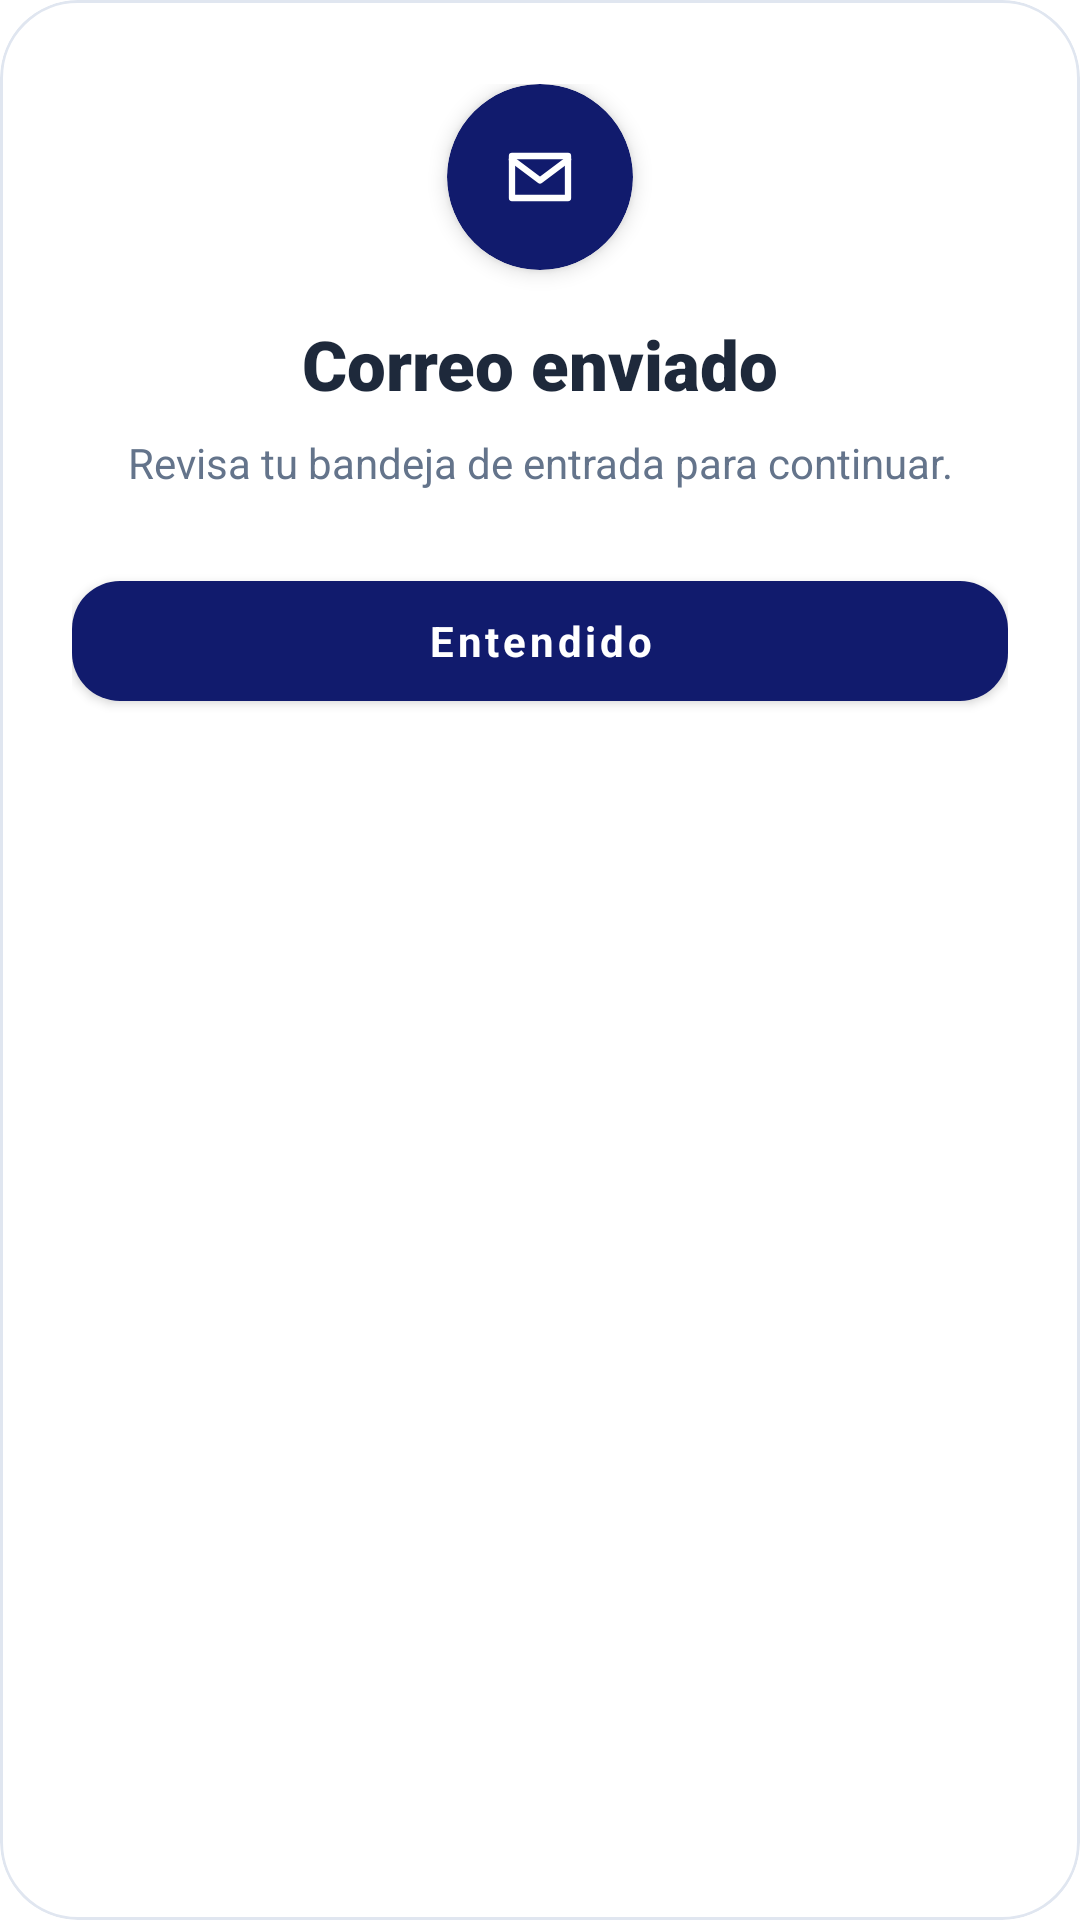

Screen size 1080 × 1920. Icon name, then its center in pixels as point (x, y):
Mensaje: point (540, 177)
